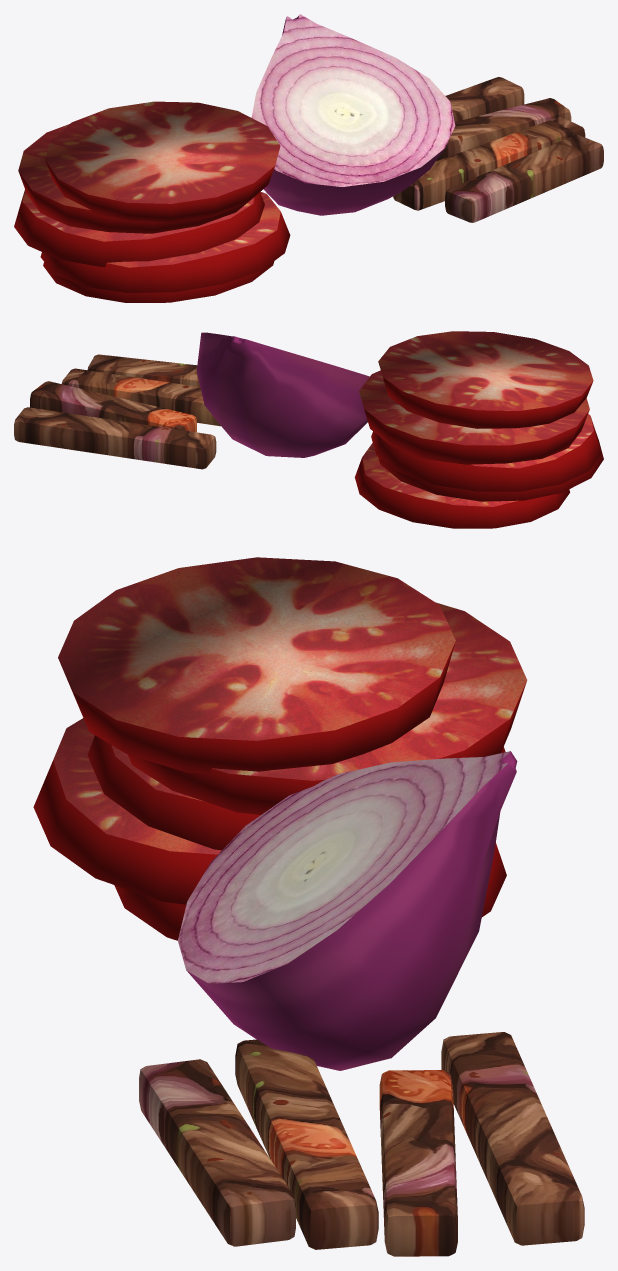
File: salteado.fbx
3 renders of one model, top to bottom at view 1: azimuth 30°, elevation 25°; view 2: azimuth 150°, elevation 25°; view 3: azimuth 270°, elevation 25°, orthographic. The views are drawn at different scales.
Visible parts, largest first — view 1: SALTEADO_PRP; view 2: SALTEADO_PRP; view 3: SALTEADO_PRP.
Part boxes in pixels (x1,y1,x2,y2): SALTEADO_PRP: (14, 14, 603, 302); SALTEADO_PRP: (14, 331, 603, 528); SALTEADO_PRP: (33, 557, 584, 1256).
Size of the model in its own units: 20.4 by 5.47 by 9.34.
5 materials, 4 textured.
